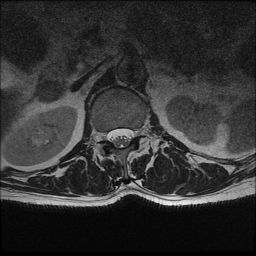CCS_normal: (116, 120, 125, 155)
LFS_normal: (134, 120, 143, 143)
LLS_normal: (125, 120, 134, 149)
RFS_normal: (97, 121, 107, 149)
RLS_normal: (106, 120, 116, 150)
